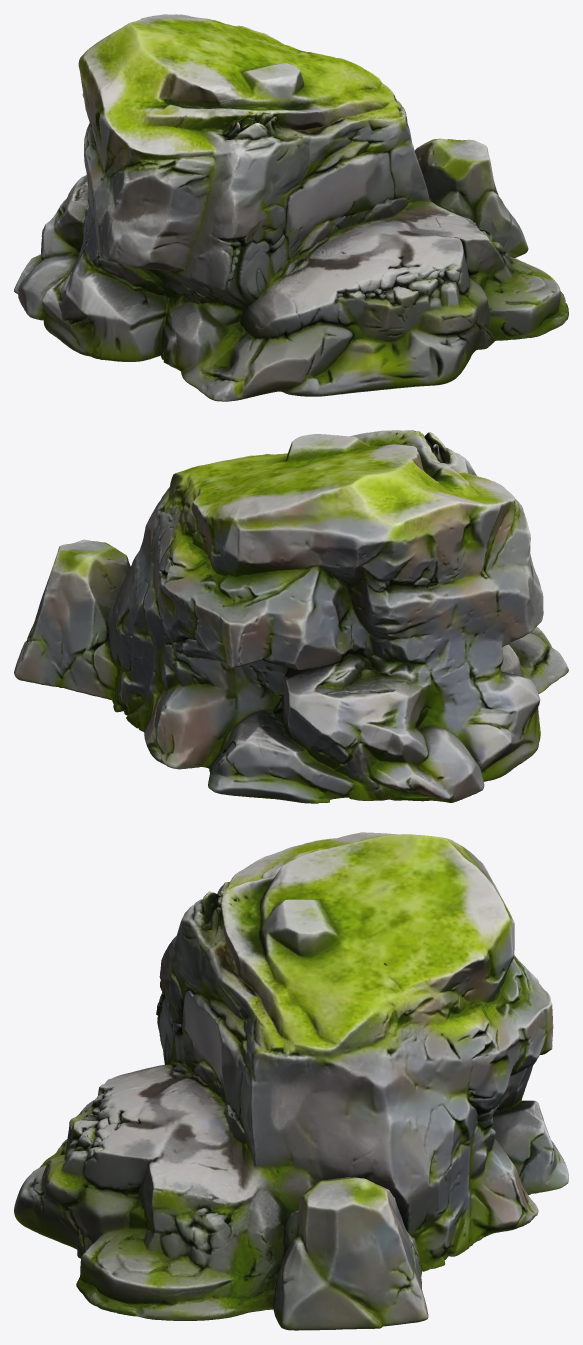
File: Rocha com musgo.glb
The picture shows the model from 3 angles, top to bottom: view 1: azimuth 30°, elevation 25°; view 2: azimuth 150°, elevation 25°; view 3: azimuth 270°, elevation 25°; orthographic projection. The views are drawn at different scales.
Size of the model in its own units: 1.9 by 1.06 by 1.74.
1 material, 1 textured.
